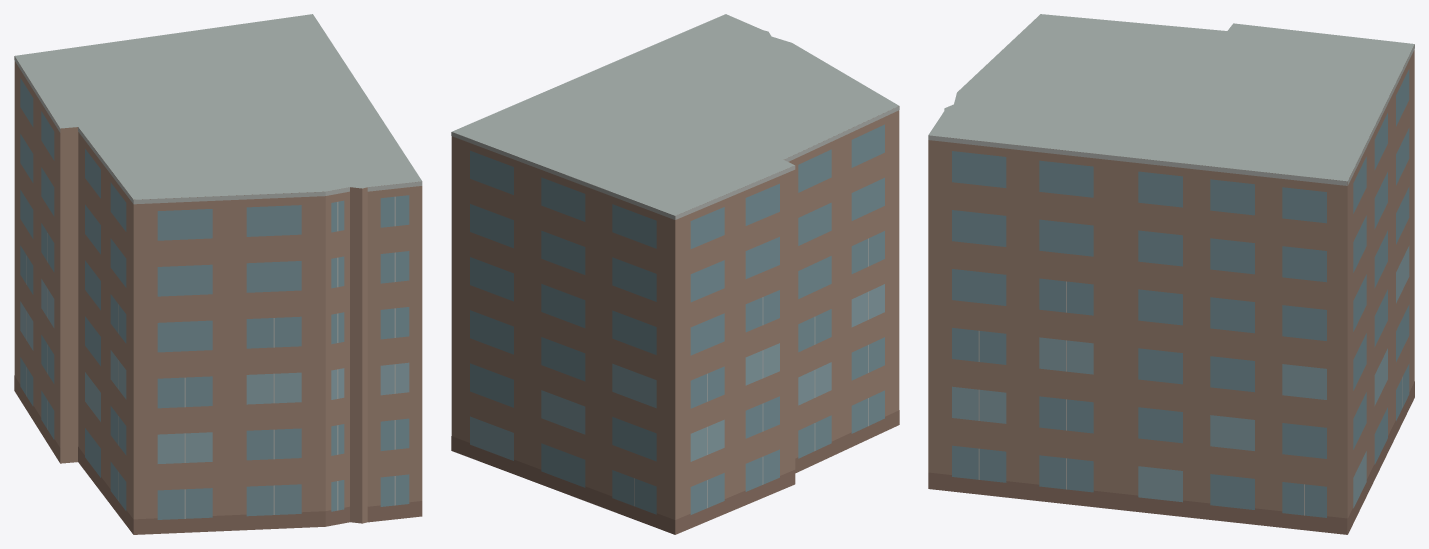
The model's file is survey-upis-33046207.glb.
3 views of the same model, side by side, from view 1: azimuth 30°, elevation 25°; view 2: azimuth 150°, elevation 25°; view 3: azimuth 270°, elevation 25° (orthographic). The views are drawn at different scales.
Visible parts, largest first — view 1: survey-upis-33046207.tmp; view 2: survey-upis-33046207.tmp; view 3: survey-upis-33046207.tmp.
Boxes of the visible parts, box(x1,y1,x2,y2) form: survey-upis-33046207.tmp: box(14, 14, 422, 534); survey-upis-33046207.tmp: box(451, 14, 899, 534); survey-upis-33046207.tmp: box(928, 14, 1414, 534).
Size of the model in its own units: 18.58 by 18.3 by 22.83.
